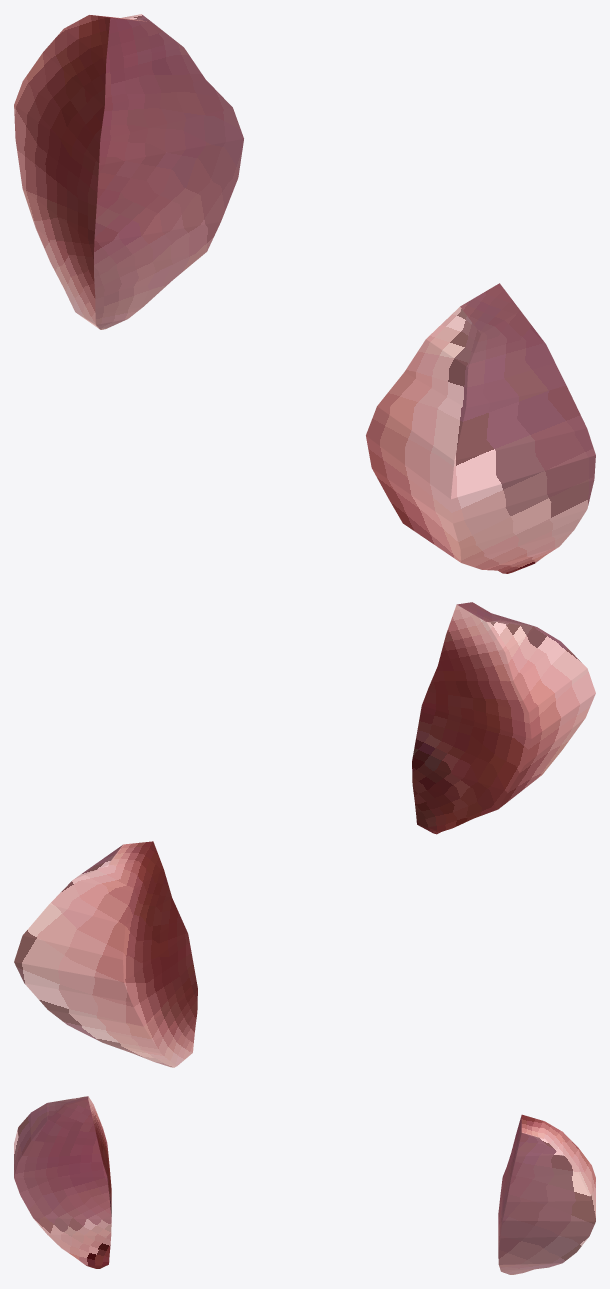
3 views of the same model, one above another, from view 1: azimuth 30°, elevation 25°; view 2: azimuth 150°, elevation 25°; view 3: azimuth 270°, elevation 25° (orthographic). The views are drawn at different scales.
Parts seen in each view (by area): view 1: metamorphosis_v2.001; view 2: metamorphosis_v2.001; view 3: metamorphosis_v2.001.
Part boxes in pixels (<box>): metamorphosis_v2.001: <box>14,14,595,573</box>; metamorphosis_v2.001: <box>14,602,595,1067</box>; metamorphosis_v2.001: <box>14,1096,595,1274</box>.
Size of the model in its own units: 0.3462 by 0.4505 by 1.33.
Materials: 1 (1 with a texture image).
